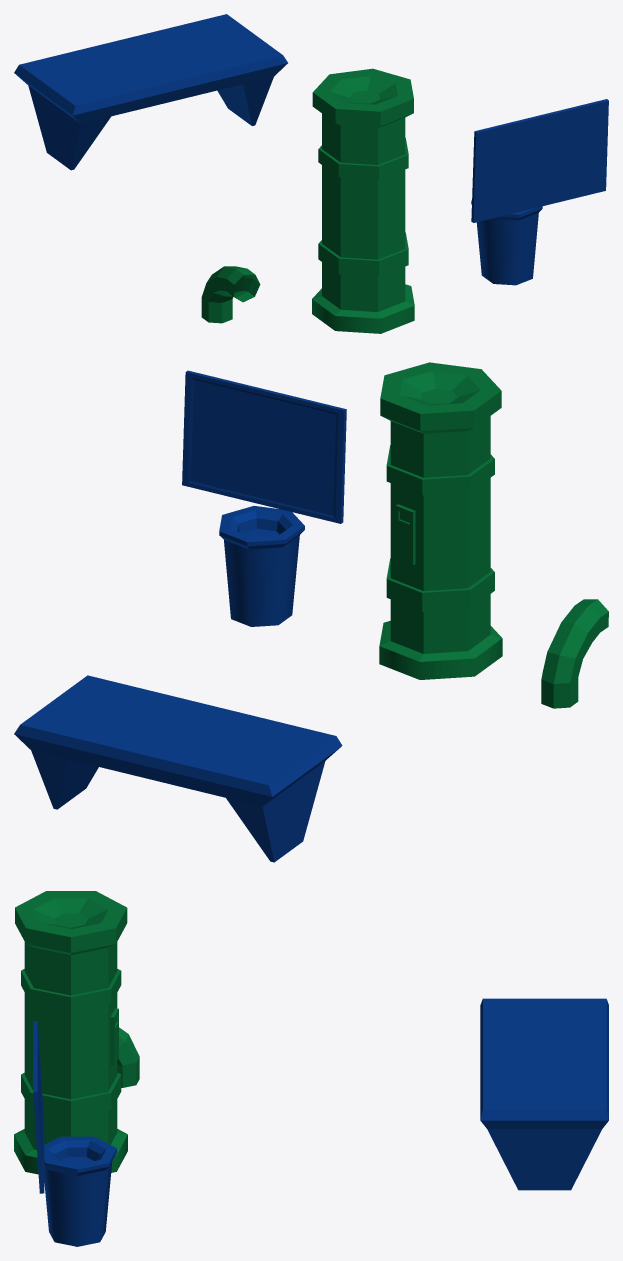
Rendered from ObjectsNew.FBX.
The picture shows the model from 3 angles, top to bottom: view 1: azimuth 30°, elevation 25°; view 2: azimuth 150°, elevation 25°; view 3: azimuth 270°, elevation 25°; orthographic projection. The views are drawn at different scales.
Parts seen in each view (by area): view 1: Cylinder001, Plane002, Plane001, Cylinder002, Object; view 2: Cylinder001, Plane002, Plane001, Cylinder002, Object; view 3: Cylinder001, Plane002, Cylinder002, Plane001, Object.
Boxes of the visible parts, bbox=[...] form: Cylinder001: bbox=[312, 68, 414, 333]; Plane002: bbox=[14, 14, 287, 170]; Plane001: bbox=[471, 99, 608, 222]; Cylinder002: bbox=[471, 200, 542, 285]; Object: bbox=[201, 266, 260, 323]; Cylinder001: bbox=[379, 362, 502, 679]; Plane002: bbox=[14, 675, 342, 862]; Plane001: bbox=[182, 370, 346, 523]; Cylinder002: bbox=[219, 506, 304, 626]; Object: bbox=[541, 599, 608, 708]; Cylinder001: bbox=[14, 891, 127, 1174]; Plane002: bbox=[480, 998, 608, 1190]; Cylinder002: bbox=[44, 1136, 116, 1246]; Plane001: bbox=[33, 1021, 44, 1193]; Object: bbox=[117, 1027, 139, 1087].
Size of the model in its own units: 2.44 by 3.16 by 1.43.
